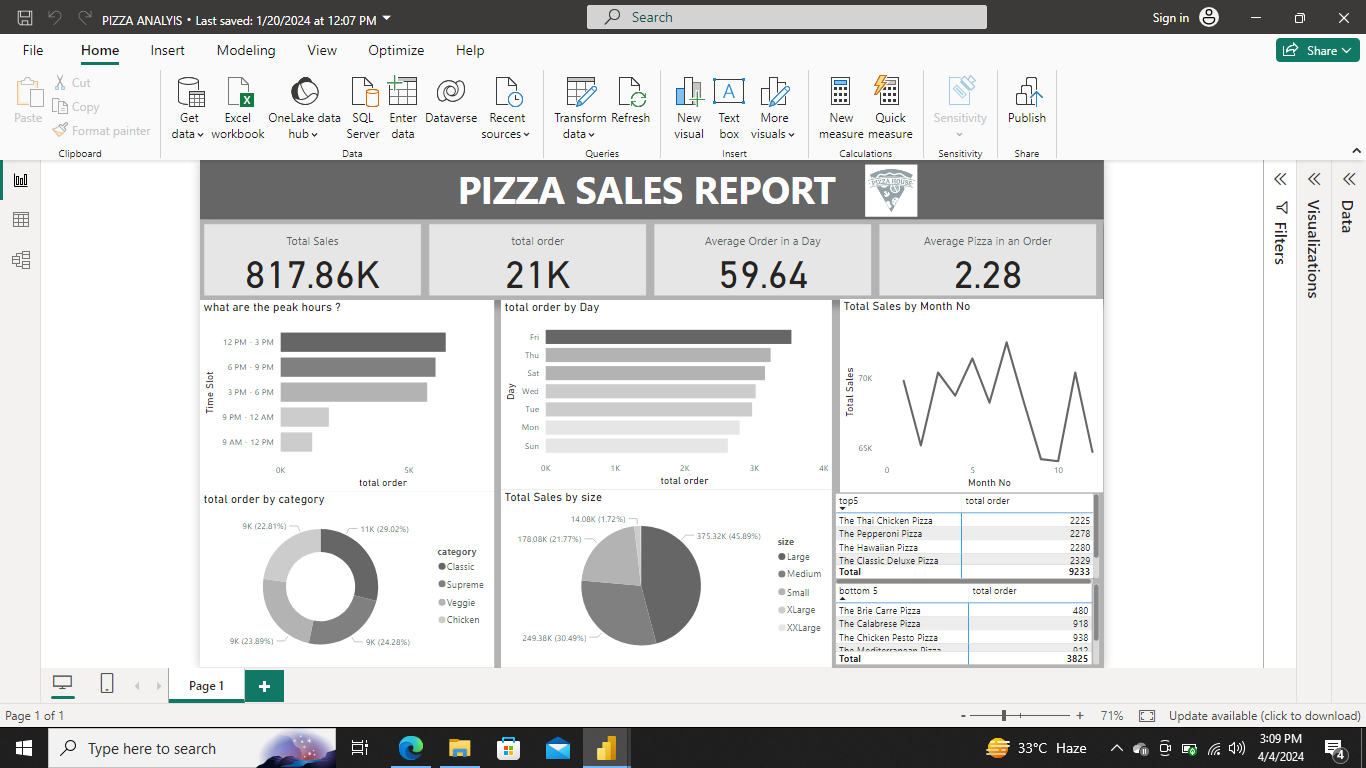

The page's visual inventory and layout, read from the dashboard file:
{"tool":"powerbi","page":{"name":"Page 1","canvas":[1280,720],"ordinal":0},"visuals":[{"type":"textbox","box":[0,0,1280.7,84.3],"z":0},{"type":"cardVisual","fields":{"Data":["All Measures.Total Sales","All Measures.Total Orders","All Measures.Average Order in a Day","All Measures.Average Pizza in an Order"]},"box":[0,85,1279.8,113.4],"z":1000},{"type":"barChart","title":"what are the peak hours  ?","fields":{"Category":["orders.Time Slot"],"Y":["All Measures.Total Orders"]},"box":[0,198.4,416.7,272.1],"z":2000},{"type":"clusteredBarChart","fields":{"Category":["Date Table.Day"],"Y":["All Measures.Total Orders"]},"box":[426.6,198.4,469.1,269.3],"z":3000},{"type":"lineChart","fields":{"Y":["All Measures.Total Sales"],"Category":["Date Table.Month No"]},"box":[907.1,197,372.8,273.5],"z":4000},{"type":"donutChart","fields":{"Y":["All Measures.Total Orders"],"Category":["pizza_types.category"]},"box":[0,470.6,416.7,249.4],"z":5000},{"type":"pieChart","fields":{"Category":["pizzas.size"],"Y":["All Measures.Total Sales"]},"box":[426.6,467.7,469.1,252.3],"z":6000},{"type":"pivotTable","fields":{"Values":["All Measures.Total Orders"],"Rows":["pizza_types.name"]},"box":[895.7,468.1,384.1,139.1],"z":7000},{"type":"pivotTable","fields":{"Values":["All Measures.Total Orders"],"Rows":["pizza_types.name"]},"box":[895.7,595.3,384.1,124.7],"z":8000},{"type":"image","box":[895.7,1.4,168.1,84.1],"z":9000}]}

Visuals, with their boxes on the page's 1280x720 design canvas (x1, y1, x2, y2). These are canvas units, not pixel positions in the 1366x768 screenshot, which may show the page scaled, cropped or inside an application window:
textbox: 0:0:1281:84
cardVisual - All Measures.Total Sales x All Measures.Total Orders: 0:85:1280:198
"what are the peak hours  ?" barChart: 0:198:417:470
clusteredBarChart - Date Table.Day x All Measures.Total Orders: 427:198:896:468
lineChart - All Measures.Total Sales x Date Table.Month No: 907:197:1280:470
donutChart - All Measures.Total Orders x pizza_types.category: 0:471:417:720
pieChart - pizzas.size x All Measures.Total Sales: 427:468:896:720
pivotTable - All Measures.Total Orders x pizza_types.name: 896:468:1280:607
pivotTable - All Measures.Total Orders x pizza_types.name: 896:595:1280:720
image: 896:1:1064:86
